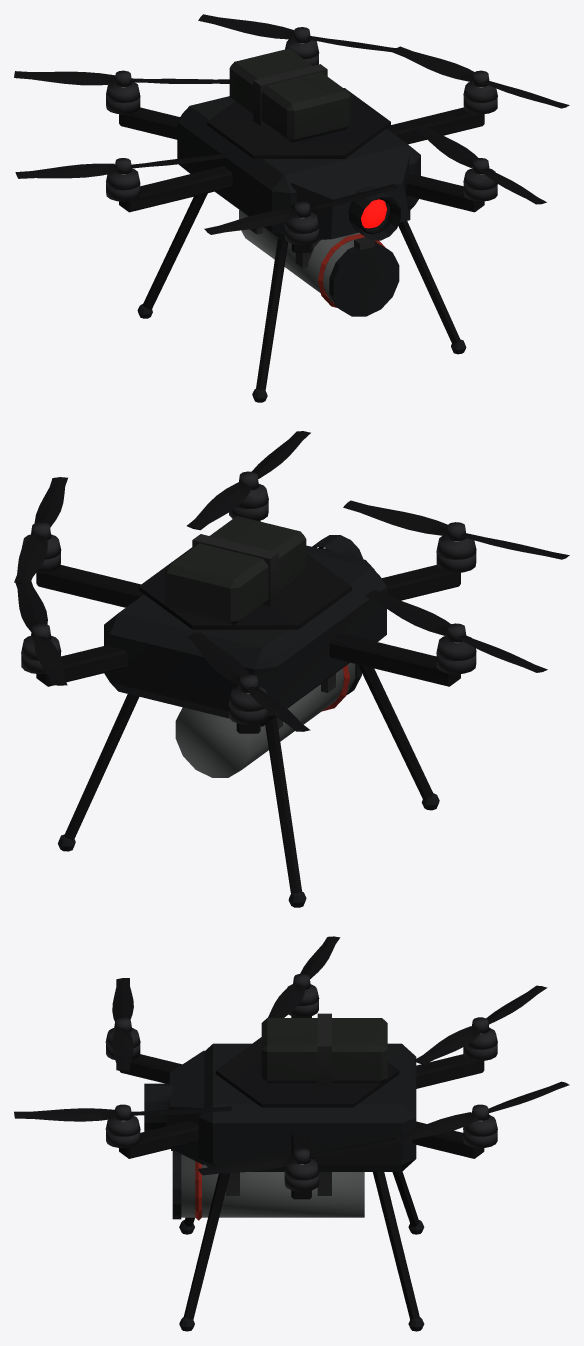
File: hunter_drone_b.glb
The picture shows the model from 3 angles, top to bottom: view 1: azimuth 30°, elevation 25°; view 2: azimuth 150°, elevation 25°; view 3: azimuth 270°, elevation 25°; orthographic projection. The views are drawn at different scales.
Parts seen in each view (by area): view 1: body_LOD0, pod_door_LOD0, net_pod_LOD0, eye_LOD0, rotor_2_LOD0, rotor_1_LOD0, rotor_3_LOD0, rotor_4_LOD0, rotor_5_LOD0, rotor_6_LOD0; view 2: body_LOD0, net_pod_LOD0, rotor_1_LOD0, rotor_2_LOD0, rotor_6_LOD0, rotor_3_LOD0, rotor_4_LOD0, rotor_5_LOD0, eye_LOD0; view 3: body_LOD0, net_pod_LOD0, rotor_6_LOD0, rotor_5_LOD0, rotor_4_LOD0, rotor_3_LOD0, rotor_1_LOD0, rotor_2_LOD0, eye_LOD0, pod_door_LOD0.
Part boxes in pixels (bbox=[...]): body_LOD0: bbox=[106, 39, 497, 402]; pod_door_LOD0: bbox=[329, 237, 399, 316]; net_pod_LOD0: bbox=[239, 210, 385, 307]; eye_LOD0: bbox=[348, 186, 400, 240]; rotor_2_LOD0: bbox=[15, 153, 230, 178]; rotor_1_LOD0: bbox=[204, 184, 399, 234]; rotor_3_LOD0: bbox=[14, 70, 229, 86]; rotor_4_LOD0: bbox=[198, 14, 403, 53]; rotor_5_LOD0: bbox=[393, 46, 569, 108]; rotor_6_LOD0: bbox=[414, 125, 546, 204]; body_LOD0: bbox=[21, 484, 476, 907]; net_pod_LOD0: bbox=[175, 662, 355, 777]; rotor_1_LOD0: bbox=[343, 500, 569, 559]; rotor_2_LOD0: bbox=[365, 590, 547, 672]; rotor_6_LOD0: bbox=[187, 431, 310, 530]; rotor_3_LOD0: bbox=[187, 632, 310, 731]; rotor_4_LOD0: bbox=[15, 578, 67, 685]; rotor_5_LOD0: bbox=[14, 477, 67, 583]; eye_LOD0: bbox=[312, 535, 363, 559]; body_LOD0: bbox=[105, 984, 497, 1331]; net_pod_LOD0: bbox=[181, 1154, 364, 1220]; rotor_6_LOD0: bbox=[14, 1104, 231, 1121]; rotor_5_LOD0: bbox=[198, 1138, 405, 1175]; rotor_4_LOD0: bbox=[391, 1081, 569, 1143]; rotor_3_LOD0: bbox=[413, 985, 547, 1064]; rotor_1_LOD0: bbox=[112, 978, 133, 1071]; rotor_2_LOD0: bbox=[268, 936, 340, 1017]; eye_LOD0: bbox=[144, 1083, 172, 1131]; pod_door_LOD0: bbox=[171, 1149, 181, 1219].
Size of what is drawn, in the model's own units: 0.985 by 0.487 by 0.9702.
